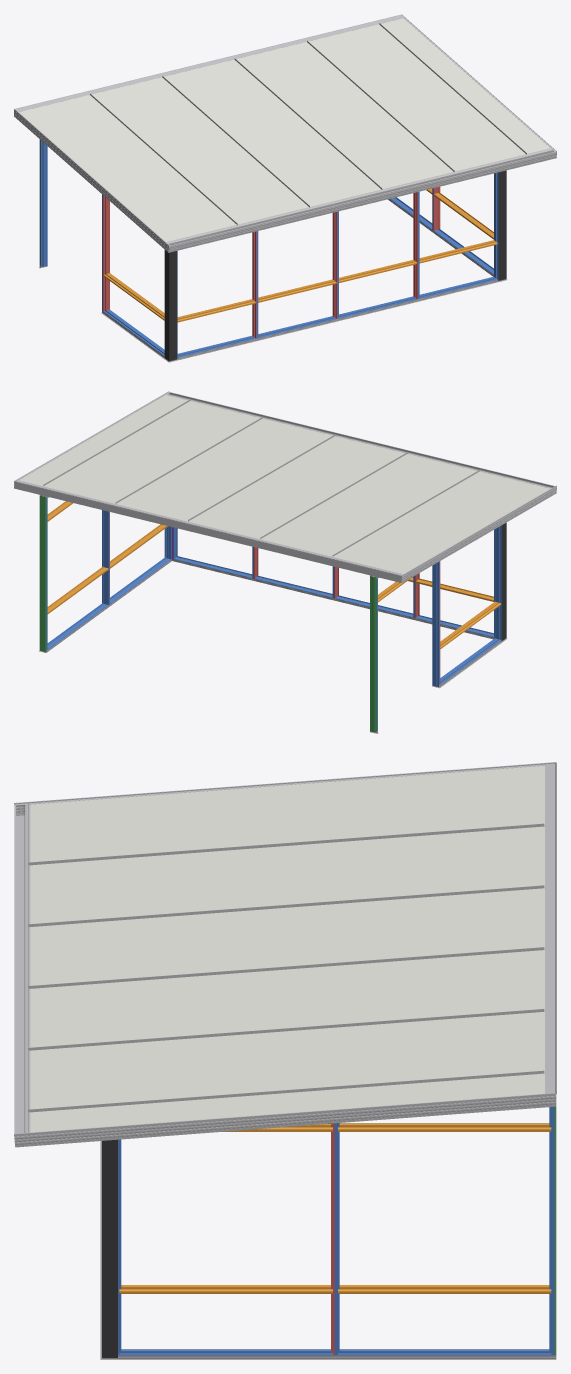
Rendered from Sunroom_4Season.glb.
3 renders of one model, top to bottom at view 1: azimuth 30°, elevation 25°; view 2: azimuth 150°, elevation 25°; view 3: azimuth 270°, elevation 25°, orthographic. The views are drawn at different scales.
Parts seen in each view (by area): view 1: ROOF P1 SkinTop, ROOF P2 SkinTop, ROOF P5 SkinTop, ROOF P3 SkinTop, ROOF P4 SkinTop, ROOF Gutter, ROOF P6 SkinTop, ROOF BackChannel, CORNER CP_L CornerPost, ROOF FasciaL, FRONT BC T05, LEFT M3 T02 (+14 smaller); view 2: ROOF P1 SkinTop, ROOF P2 SkinTop, ROOF P5 SkinTop, ROOF P3 SkinTop, ROOF P4 SkinTop, ROOF BackChannel, ROOF P6 SkinTop, ROOF Gutter, ROOF FasciaL, RIGHT WC T01, LEFT WC T01, LEFT MU1_M T02 (+12 smaller); view 3: ROOF P3 SkinTop, ROOF P4 SkinTop, ROOF P5 SkinTop, ROOF P2 SkinTop, ROOF P1 SkinTop, ROOF P6 SkinTop, ROOF FasciaR, ROOF Gutter, ROOF BackChannel, CORNER CP_R CornerPost, RIGHT BC T05, ROOF FasciaL (+15 smaller).
Boxes of the visible parts, x1,y1,x2,y2 form: ROOF P1 SkinTop: [19, 95, 236, 242]; ROOF P2 SkinTop: [91, 77, 309, 225]; ROOF P5 SkinTop: [308, 24, 525, 171]; ROOF P3 SkinTop: [164, 59, 381, 207]; ROOF P4 SkinTop: [236, 42, 453, 190]; ROOF Gutter: [166, 148, 556, 252]; ROOF P6 SkinTop: [381, 18, 550, 154]; ROOF BackChannel: [15, 14, 404, 111]; CORNER CP_L CornerPost: [164, 250, 177, 361]; ROOF FasciaL: [14, 109, 170, 252]; FRONT BC T05: [169, 279, 506, 362]; LEFT M3 T02: [40, 140, 47, 266]; ROOF P1 SkinTop: [333, 471, 550, 573]; ROOF P2 SkinTop: [261, 454, 476, 556]; ROOF P5 SkinTop: [44, 401, 259, 503]; ROOF P3 SkinTop: [188, 436, 404, 538]; ROOF P4 SkinTop: [116, 418, 332, 521]; ROOF BackChannel: [14, 480, 403, 582]; ROOF P6 SkinTop: [19, 395, 187, 485]; ROOF Gutter: [165, 392, 554, 488]; ROOF FasciaL: [401, 485, 556, 582]; RIGHT WC T01: [39, 495, 46, 651]; LEFT WC T01: [370, 576, 376, 732]; LEFT MU1_M T02: [432, 561, 439, 686]; ROOF P3 SkinTop: [25, 888, 545, 988]; ROOF P4 SkinTop: [25, 950, 545, 1050]; ROOF P5 SkinTop: [25, 1011, 545, 1112]; ROOF P2 SkinTop: [25, 826, 545, 926]; ROOF P1 SkinTop: [25, 765, 545, 865]; ROOF P6 SkinTop: [25, 1073, 545, 1132]; ROOF FasciaR: [14, 1093, 556, 1147]; ROOF Gutter: [14, 803, 30, 1133]; ROOF BackChannel: [545, 762, 556, 1093]; CORNER CP_R CornerPost: [102, 1139, 117, 1357]; RIGHT BC T05: [100, 1355, 556, 1359]; ROOF FasciaL: [14, 762, 556, 815].
Bounding box in the file's own units: 0.2486 × 0.1008 × 0.1721.
